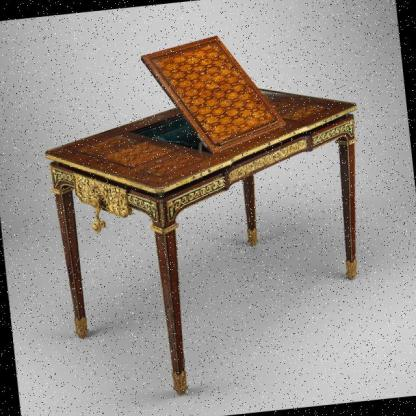Table: (10, 2, 415, 416)
